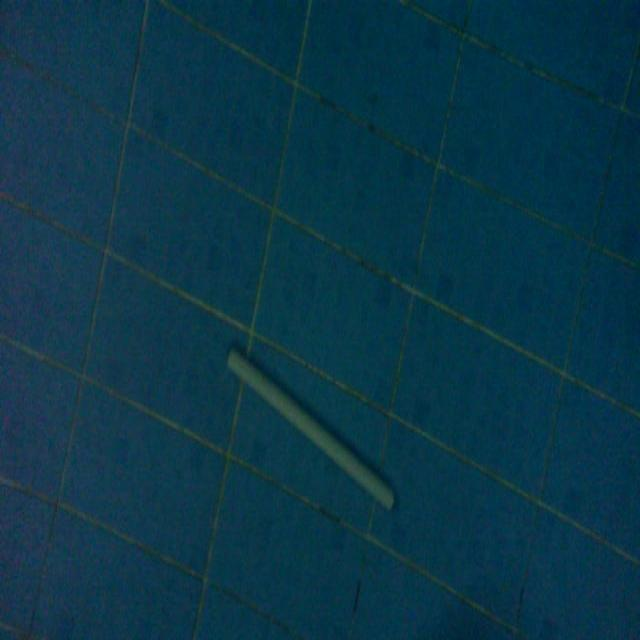Cube: (224, 342, 396, 516)
